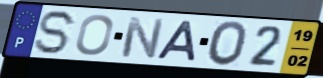2: (246, 24, 284, 69)
A: (154, 19, 199, 64)
N: (119, 15, 166, 61)
O: (206, 20, 250, 68), (74, 13, 115, 57)
S: (33, 9, 80, 56)
